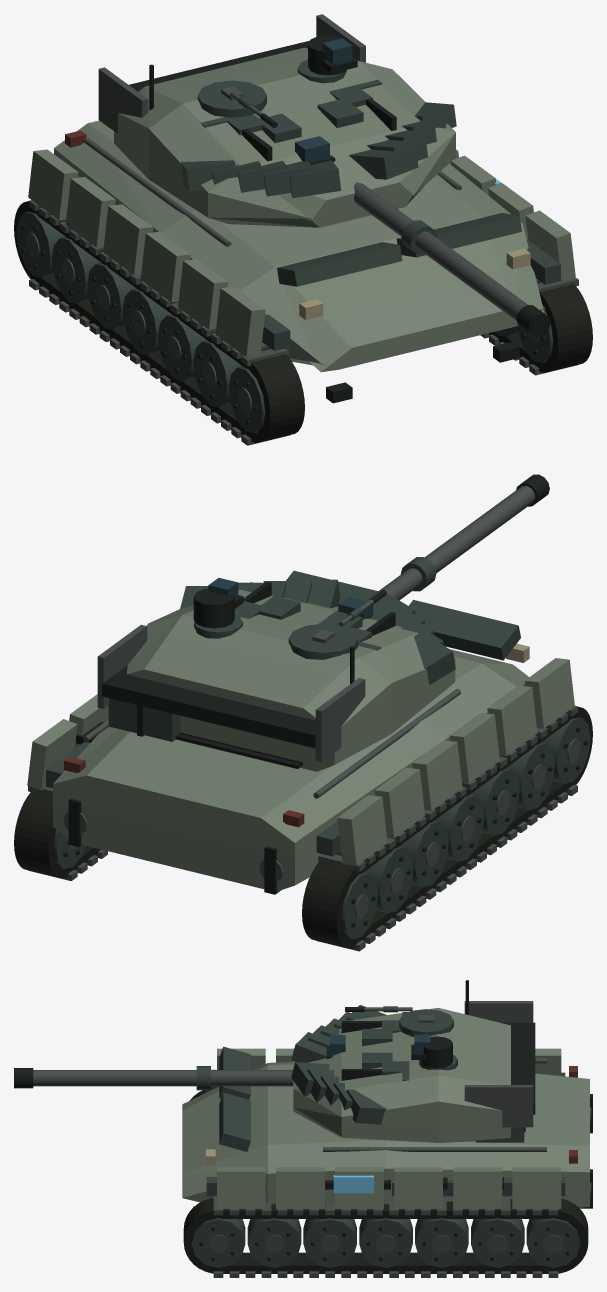
The model's file is tank.glb.
3 renders of one model, top to bottom at view 1: azimuth 30°, elevation 25°; view 2: azimuth 150°, elevation 25°; view 3: azimuth 270°, elevation 25°, orthographic. The views are drawn at different scales.
Parts seen in each view (by area): view 1: armor (×2), equipment (×3), glass; view 2: armor (×2), equipment (×3), glass; view 3: equipment (×3), armor (×2), marking, glass.
Part boxes in pixels (bbox=[...]): armor (×2): bbox=[28, 47, 575, 372]; equipment (×3): bbox=[14, 14, 592, 445]; glass: bbox=[295, 38, 352, 162]; armor (×2): bbox=[27, 582, 574, 891]; equipment (×3): bbox=[14, 474, 592, 951]; glass: bbox=[208, 578, 373, 619]; equipment (×3): bbox=[14, 980, 592, 1277]; armor (×2): bbox=[182, 1008, 589, 1208]; marking: bbox=[333, 1175, 373, 1193]; glass: bbox=[329, 1034, 430, 1055].
Size of the model in its own units: 3.76 by 2.7 by 7.17.
